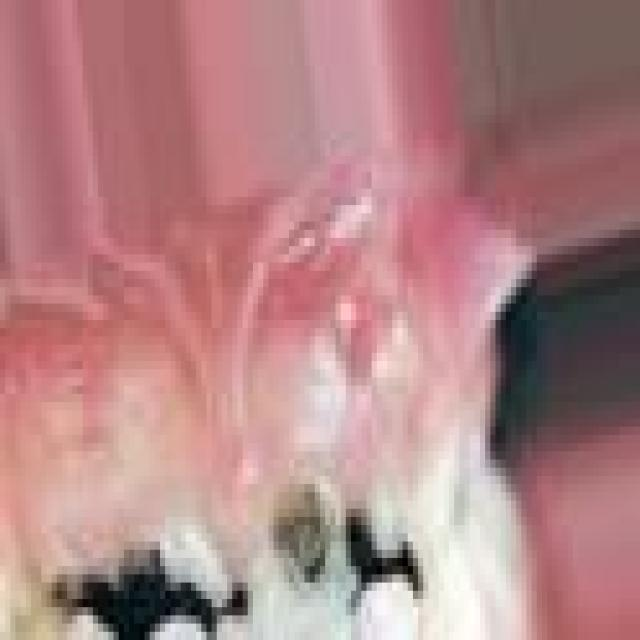caries: (257, 476, 354, 639)
